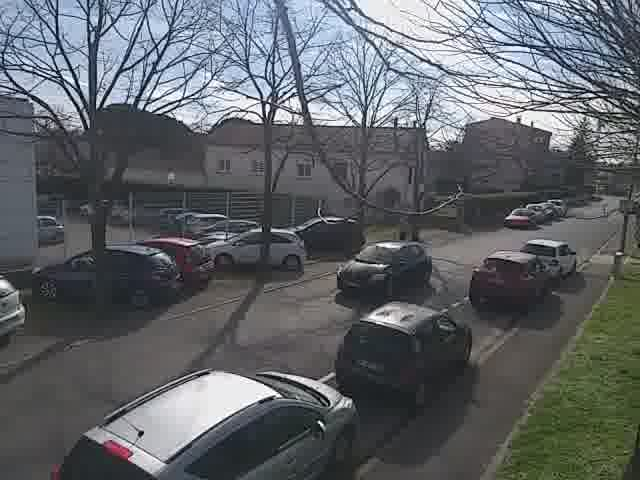persona: (392, 210, 414, 243)
